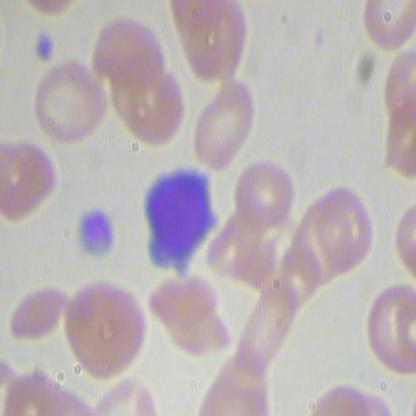Platelets: (69, 205, 118, 268), (33, 29, 58, 68)
RBC: (63, 277, 150, 382), (30, 58, 111, 153), (188, 76, 257, 170), (232, 160, 295, 235), (1, 142, 58, 223), (8, 281, 64, 342)
WBC: (142, 157, 216, 277)
